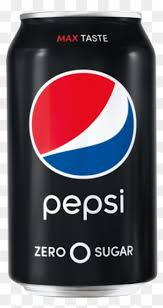pepsi: (26, 68, 139, 179), (40, 191, 131, 220)
